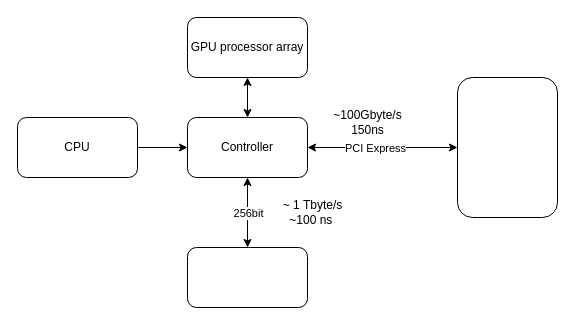
This 575x325 diagram has some shape labels left out. Each missing label, with the centre of its shape:
GPU memory: (247,277)
Host PC: (507,147)
